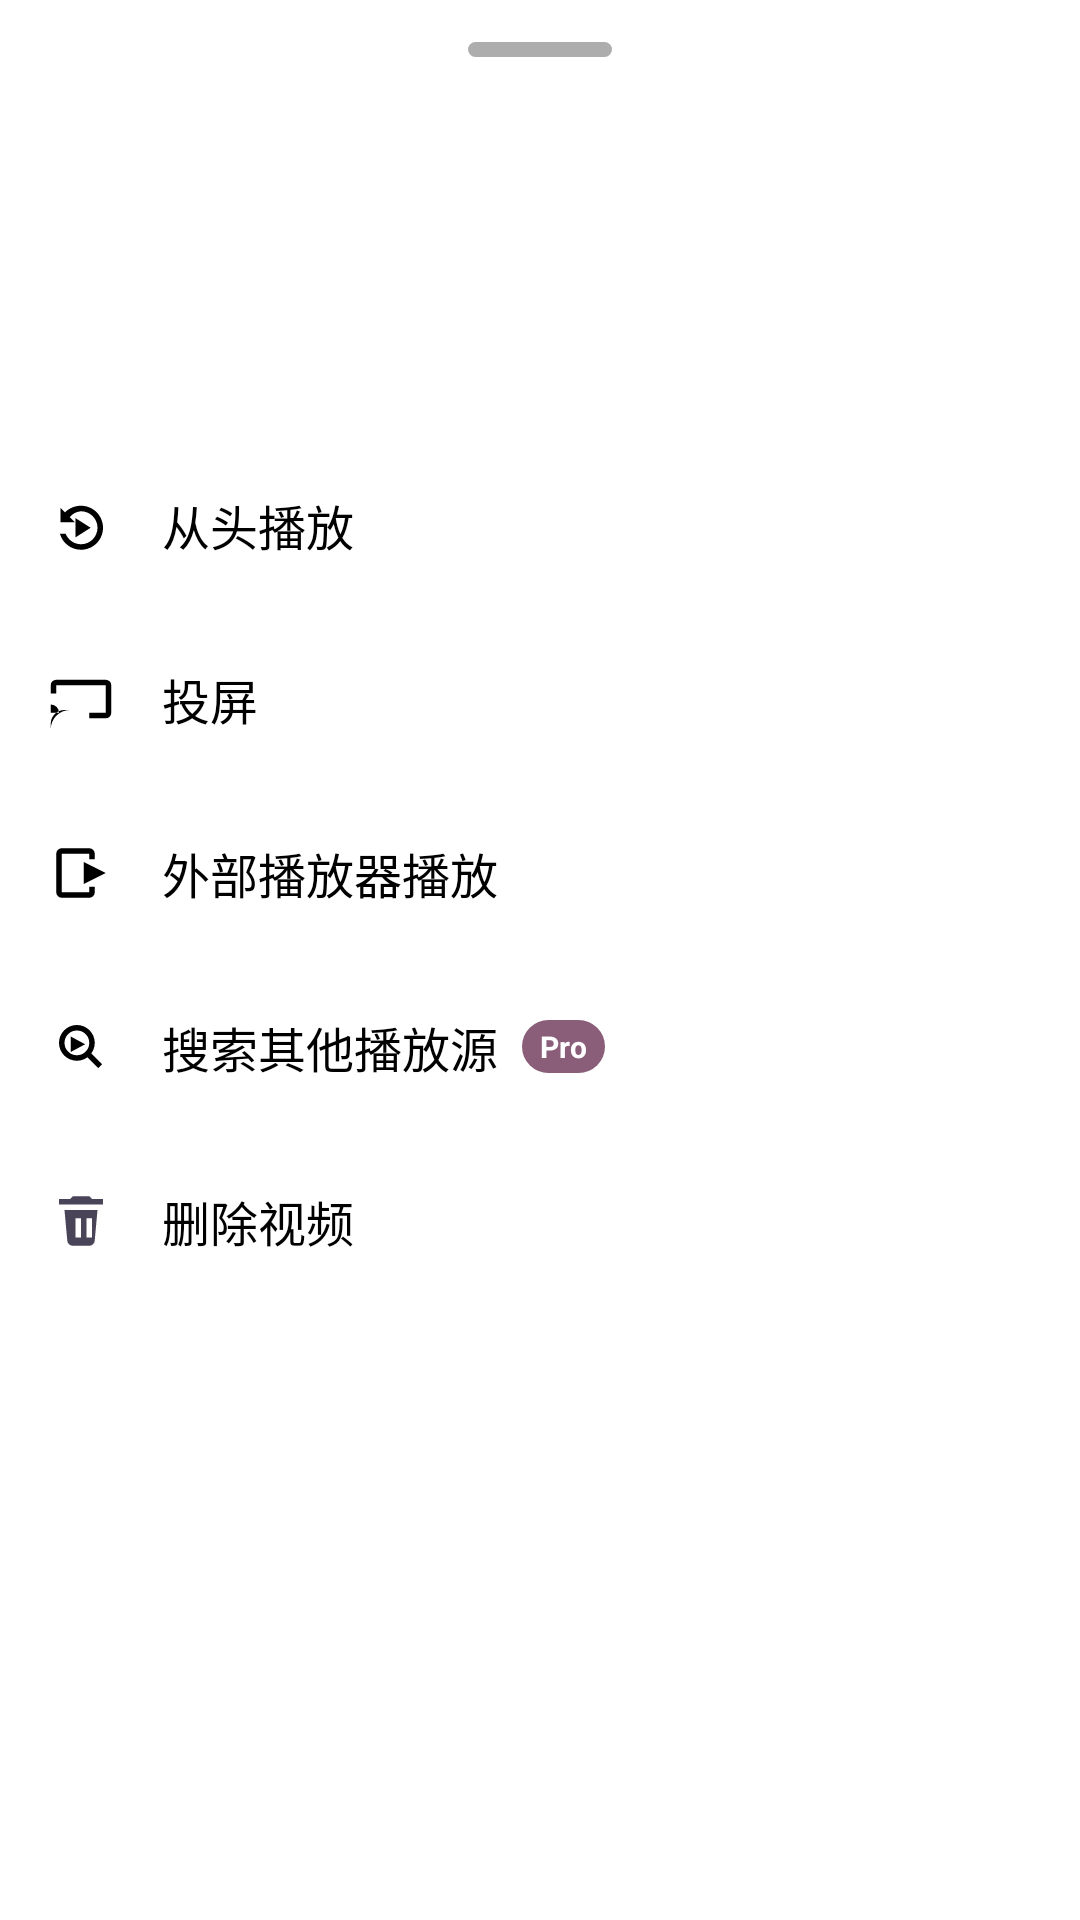

Where icons sit on this 1080px×1920px app screen, as (x1, y1, x2, y2):
video action delete: (59, 1196, 103, 1246)
video action external: (56, 848, 106, 898)
video action replay: (60, 505, 103, 550)
video action search: (59, 1025, 102, 1068)
